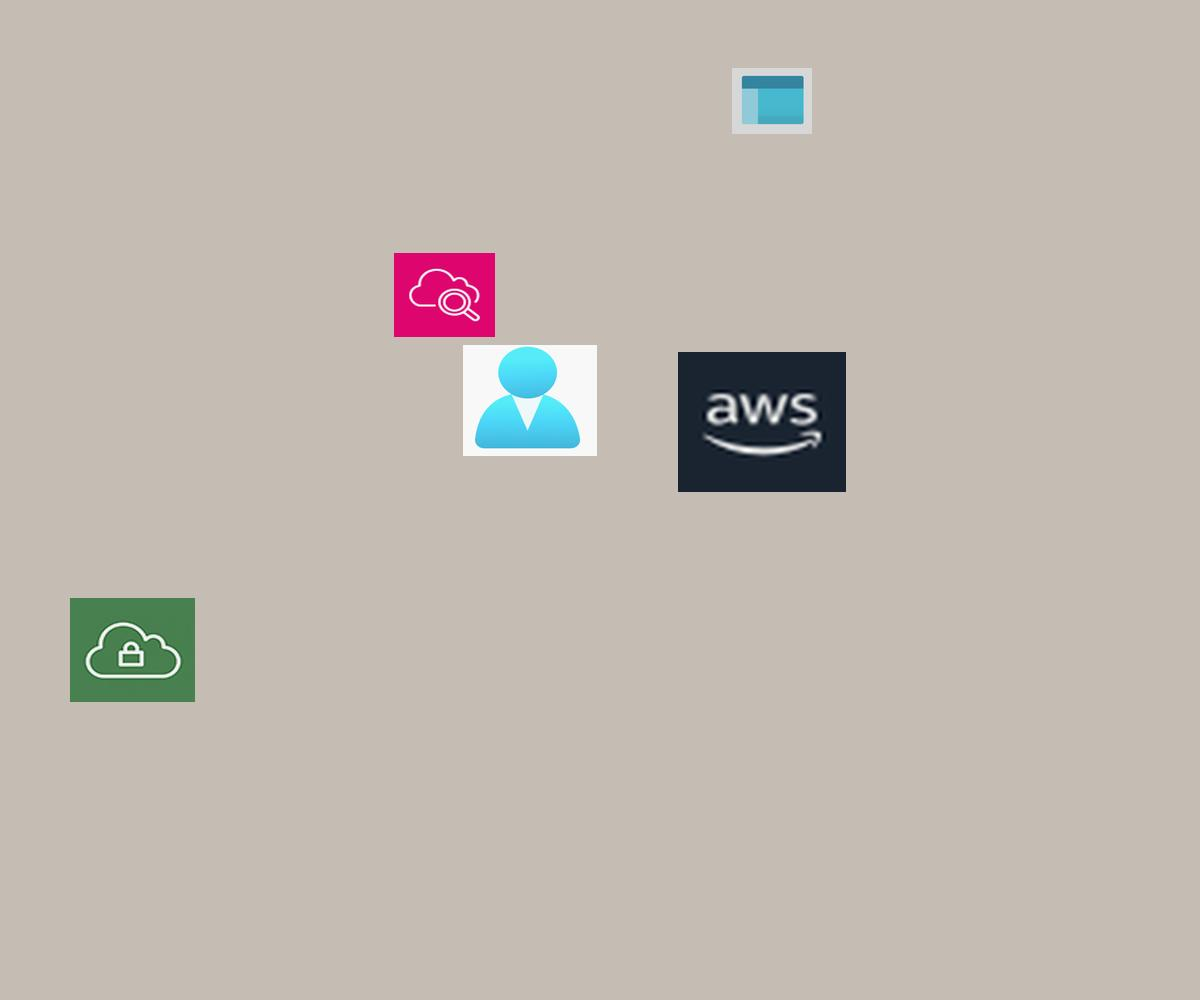AWS-Cloud-logo: (678, 352, 846, 492)
AWS-CloudWatch: (394, 253, 495, 337)
AWS-Private_vpc: (70, 598, 195, 702)
Azure_management-portal: (732, 68, 812, 134)
Azure_users: (463, 345, 597, 456)
